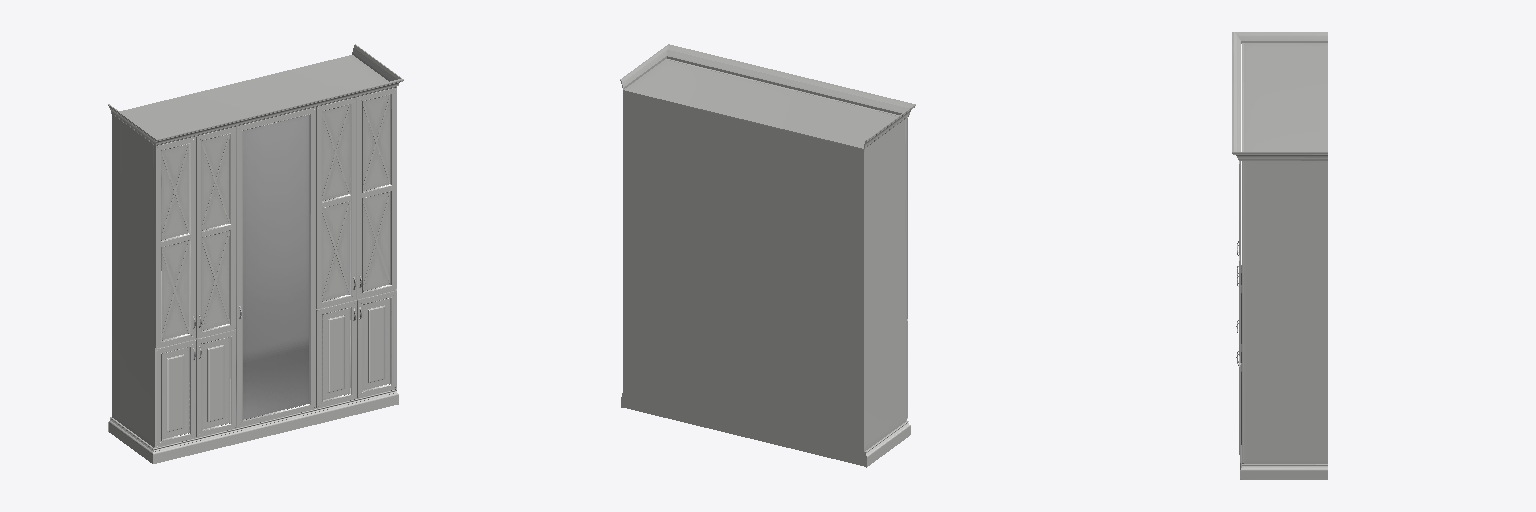
3 views of the same model, side by side, from view 1: azimuth 30°, elevation 25°; view 2: azimuth 150°, elevation 25°; view 3: azimuth 270°, elevation 25° (orthographic).
Parts seen in each view (by area): view 1: solid_001, solid_003; view 2: solid_001; view 3: solid_001.
Part boxes in pixels (left/top/right/bottom): solid_001: left=108, top=44, right=403, bottom=463; solid_003: left=236, top=115, right=308, bottom=427; solid_001: left=620, top=44, right=915, bottom=467; solid_001: left=1232, top=32, right=1327, bottom=479.
Size of the model in its own units: 1.13 by 1.43 by 0.3843.
Materials: 1 (1 with a texture image).